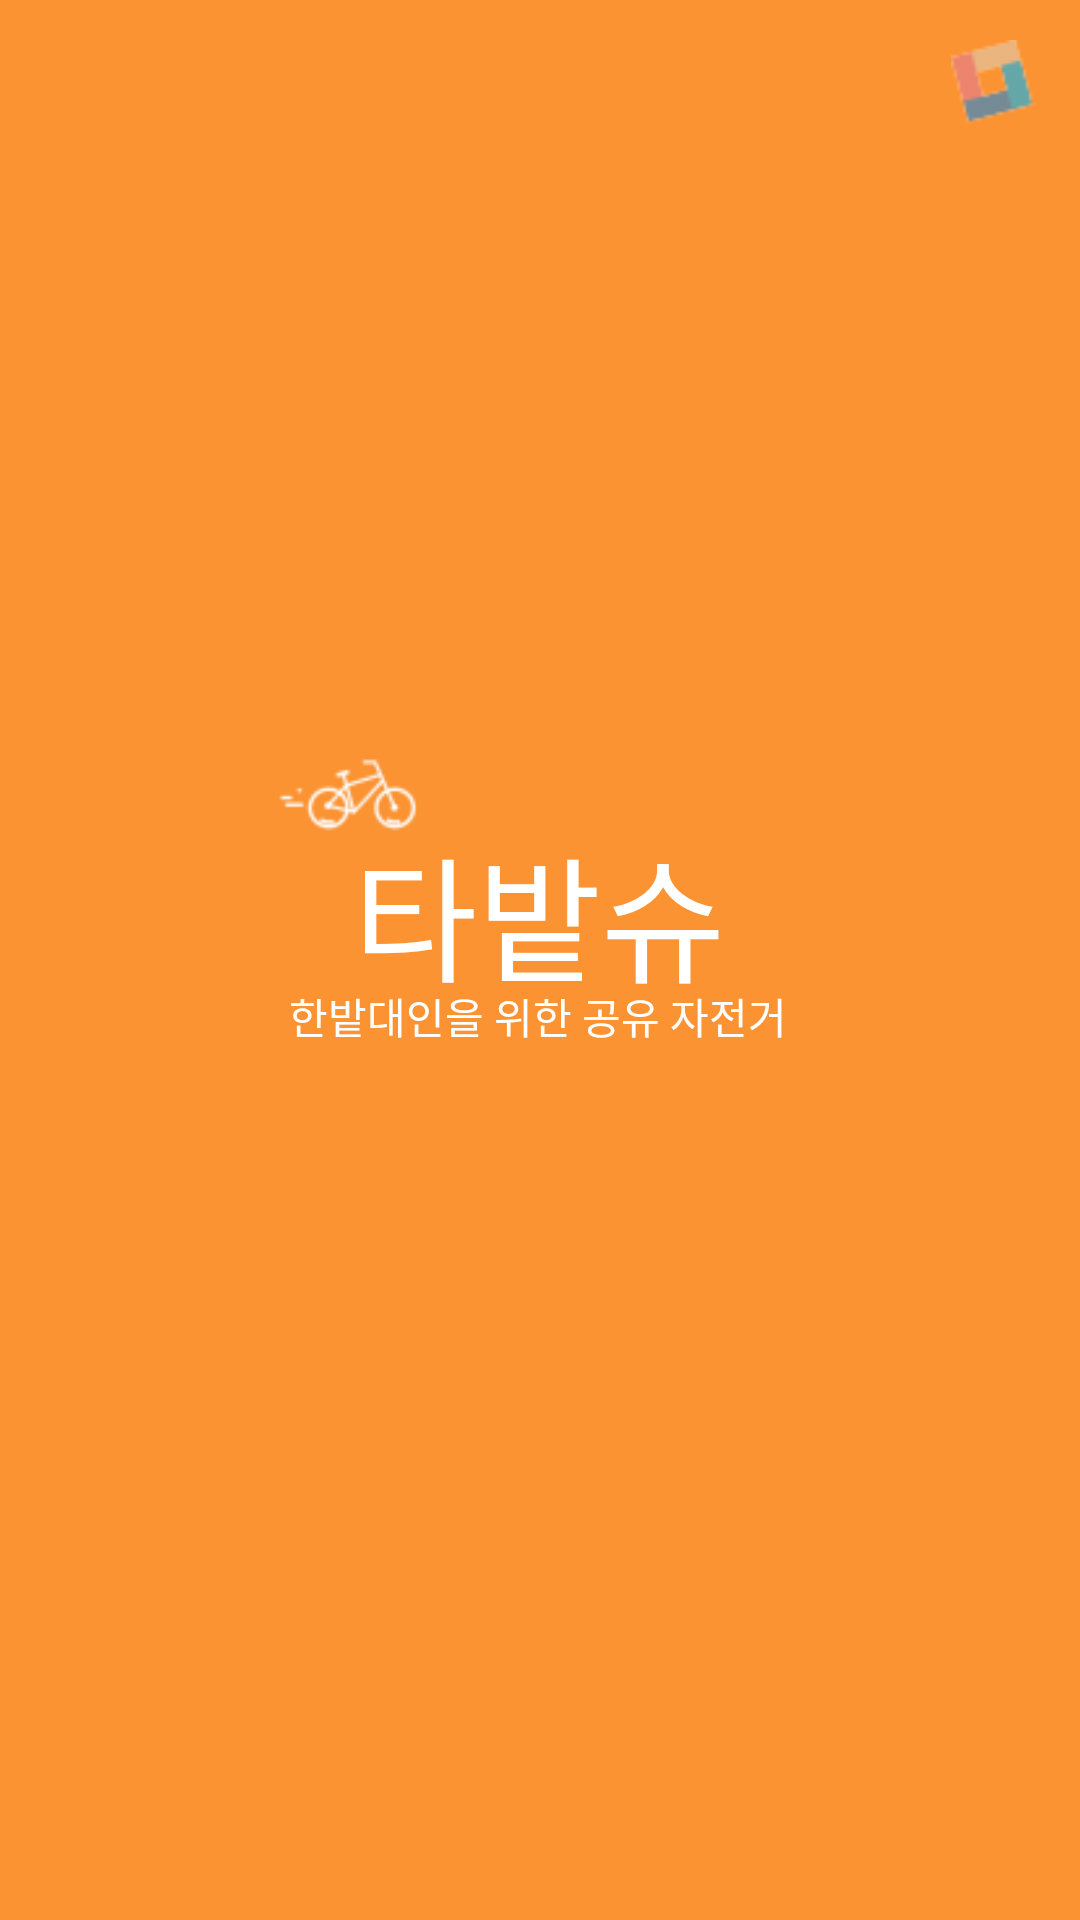

Icons on this 1080 x 1920 Android screen, each with the point to tap as [x,y]:
bike: [347,794]
